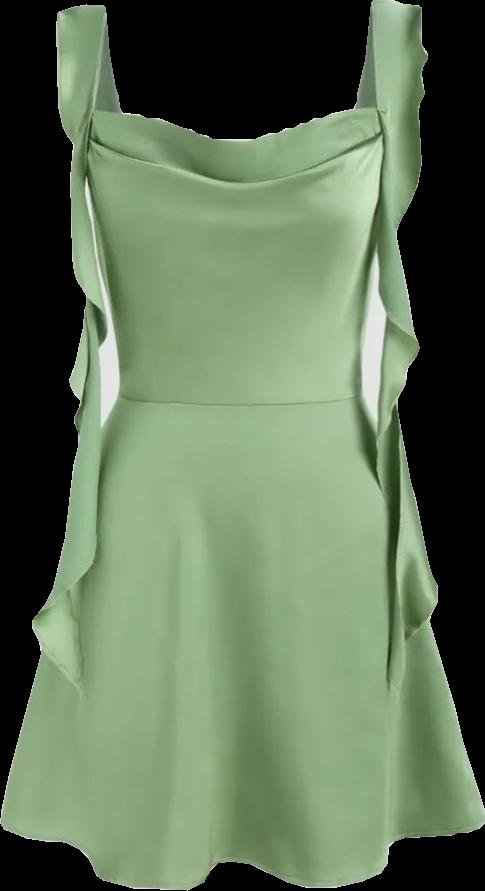Bodice: (56, 0, 427, 404)
Hemline: (0, 815, 484, 890)
Neckline: (86, 2, 390, 188)
Skirt: (0, 387, 484, 889)
Waistline: (117, 385, 359, 412)
